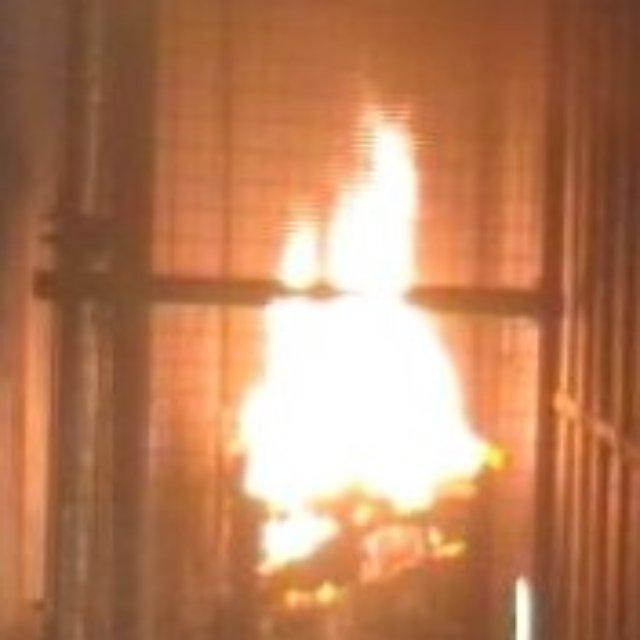Fire: (238, 94, 509, 574)
